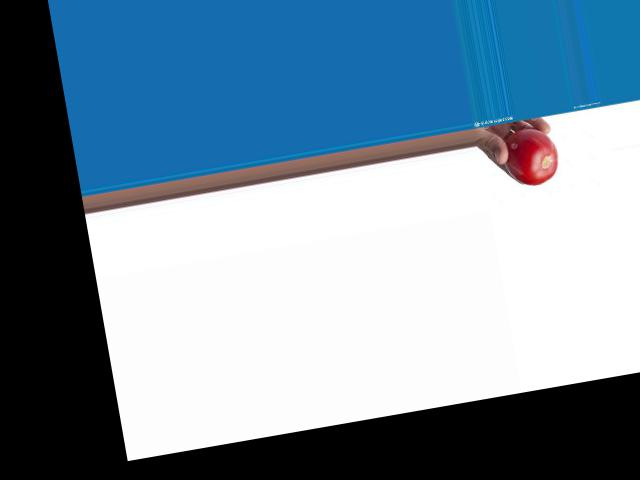tomato: (499, 124, 562, 189)
